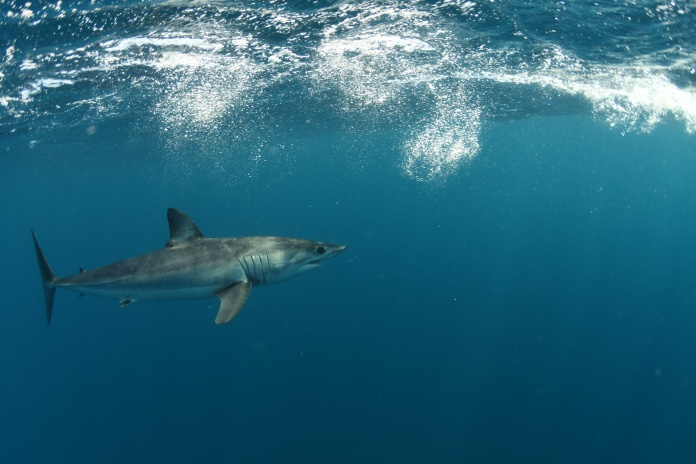Mako: (16, 199, 352, 335)
